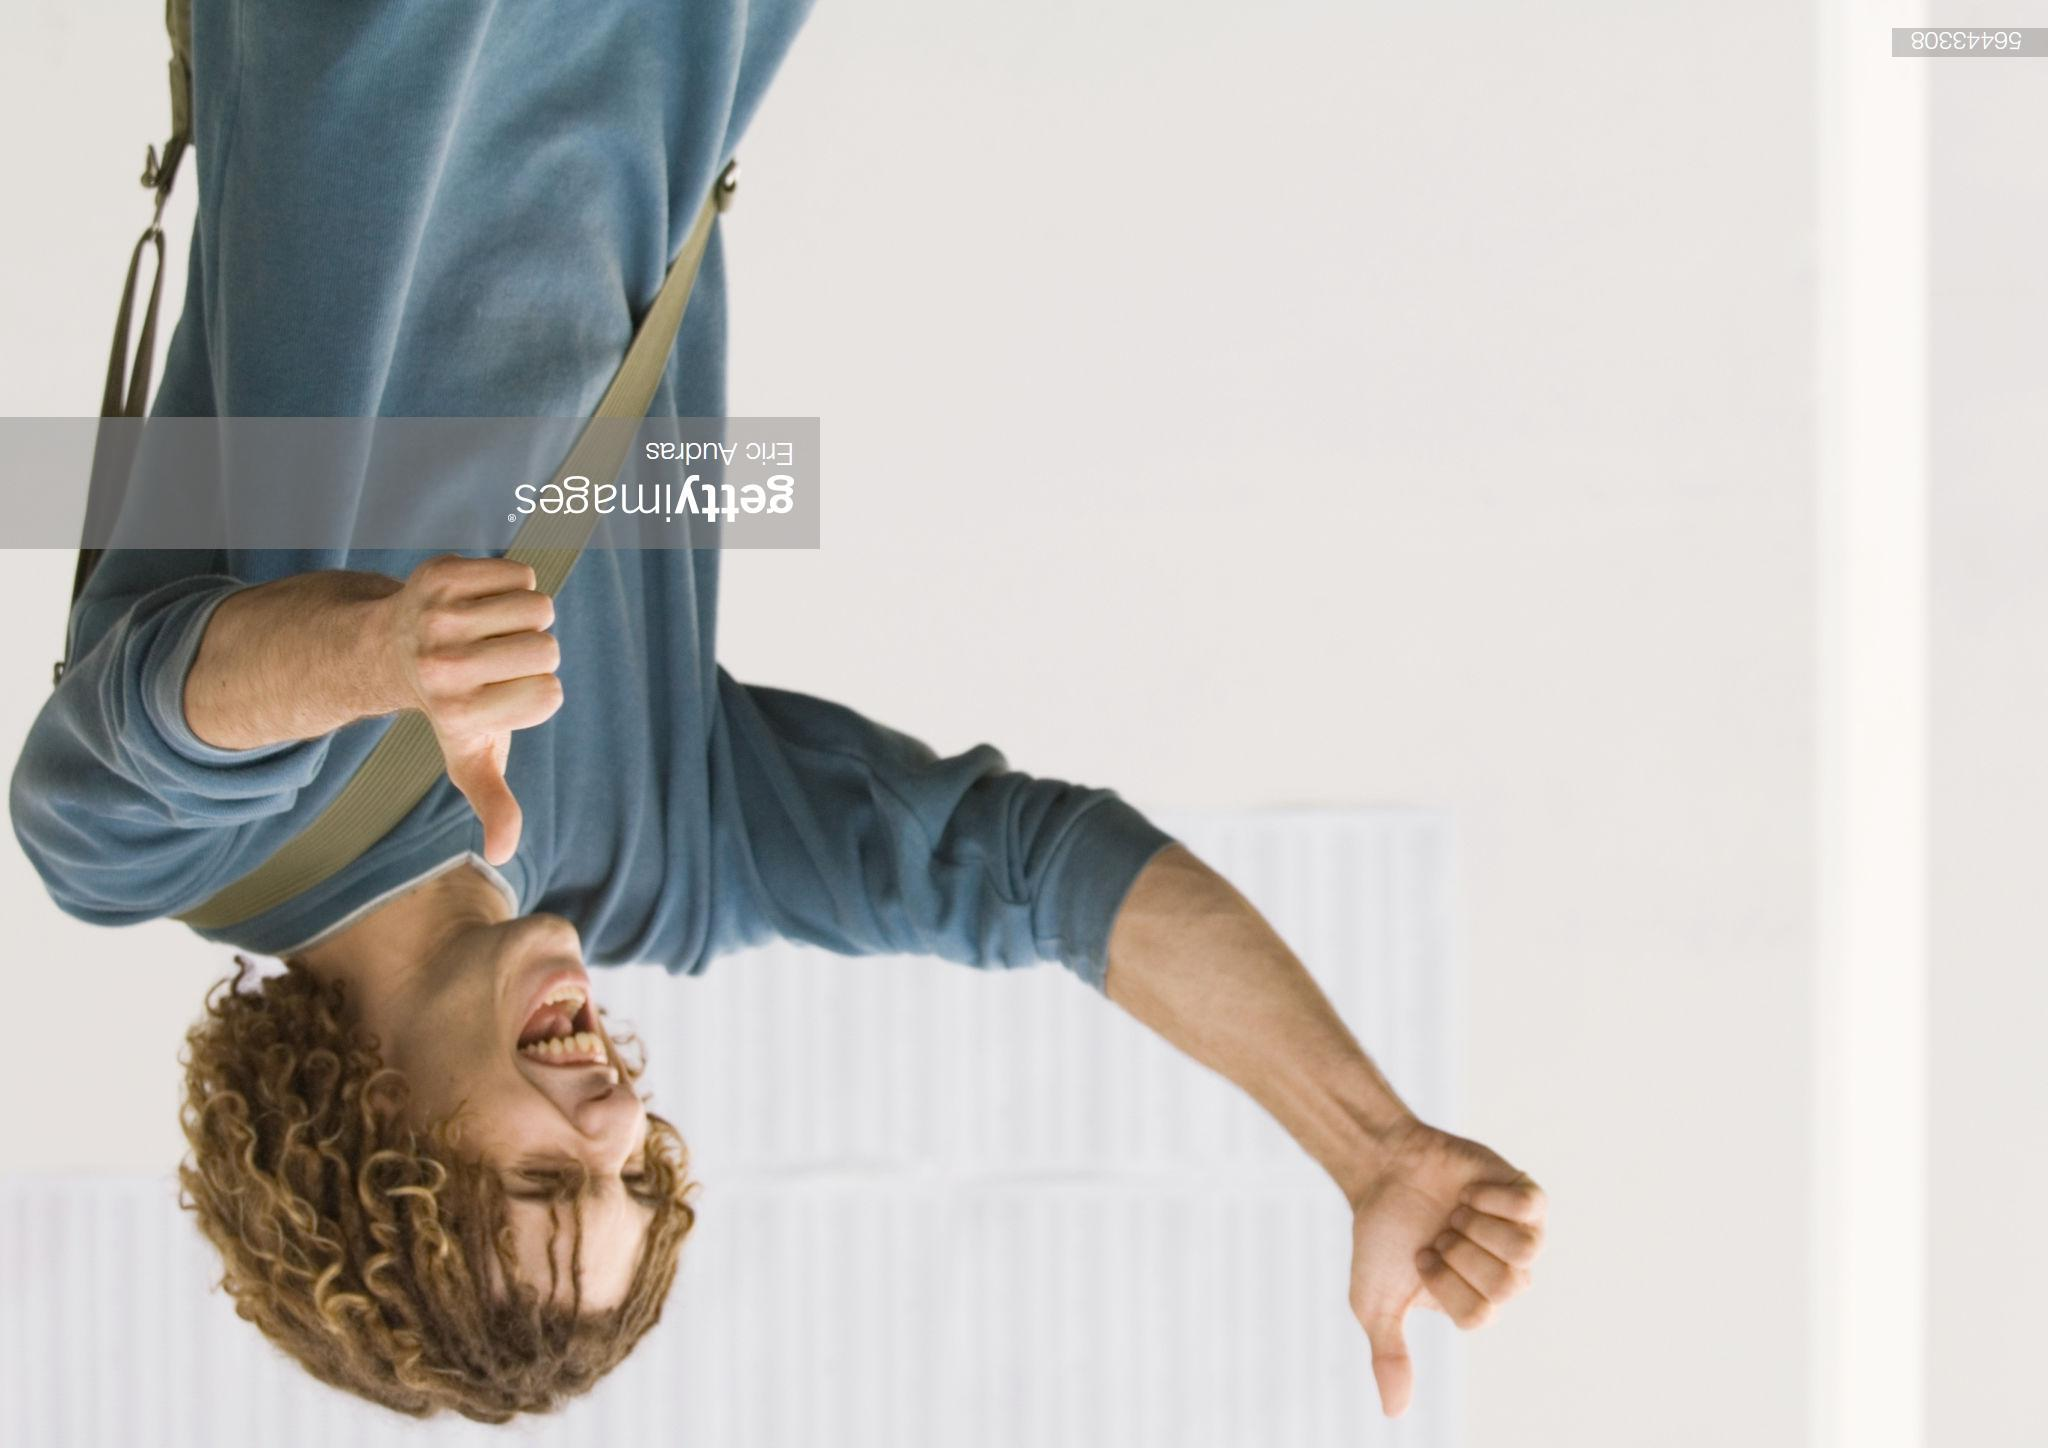thumbsdown: (411, 555, 566, 867), (1371, 1180, 1550, 1420)
